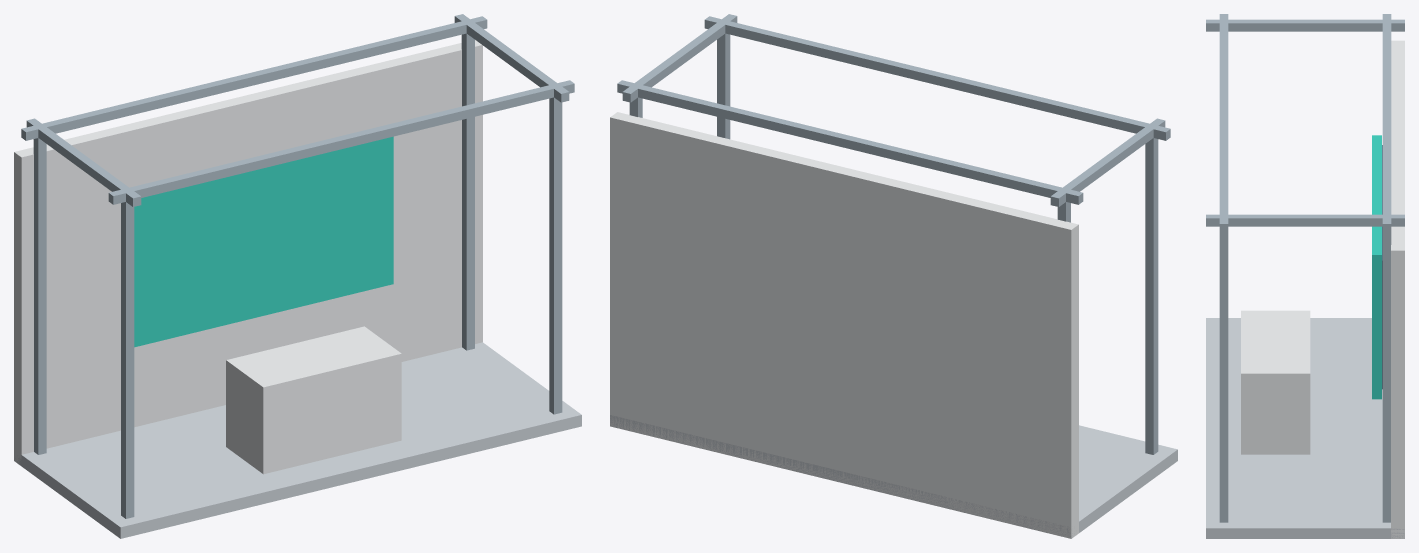
3 renders of one model, left to right at view 1: azimuth 30°, elevation 25°; view 2: azimuth 150°, elevation 25°; view 3: azimuth 270°, elevation 25°, orthographic. The views are drawn at different scales.
Visible parts, largest first — view 1: Exhibition Booth Concept; view 2: Exhibition Booth Concept; view 3: Exhibition Booth Concept.
Boxes of the visible parts, x1=… form: Exhibition Booth Concept: x1=14, y1=14, x2=581, y2=538; Exhibition Booth Concept: x1=610, y1=14, x2=1177, y2=538; Exhibition Booth Concept: x1=1206, y1=14, x2=1404, y2=538.
Bounding box in the file's own units: 5 × 3.49 × 2.
